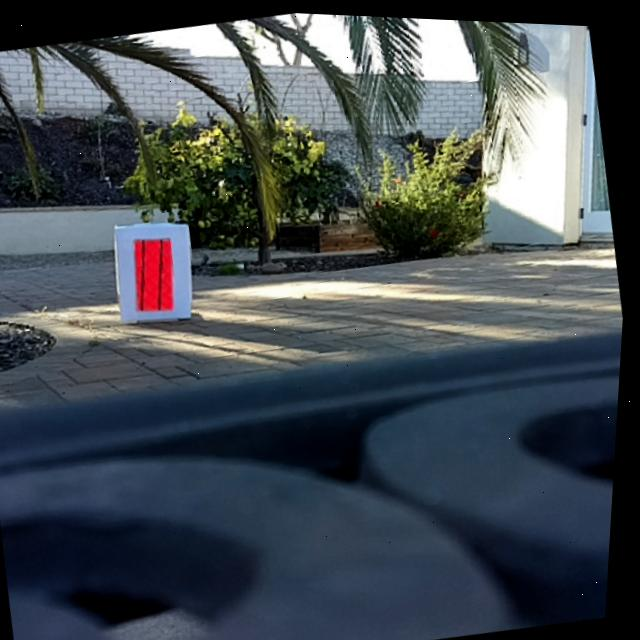led: (126, 230, 186, 316)
